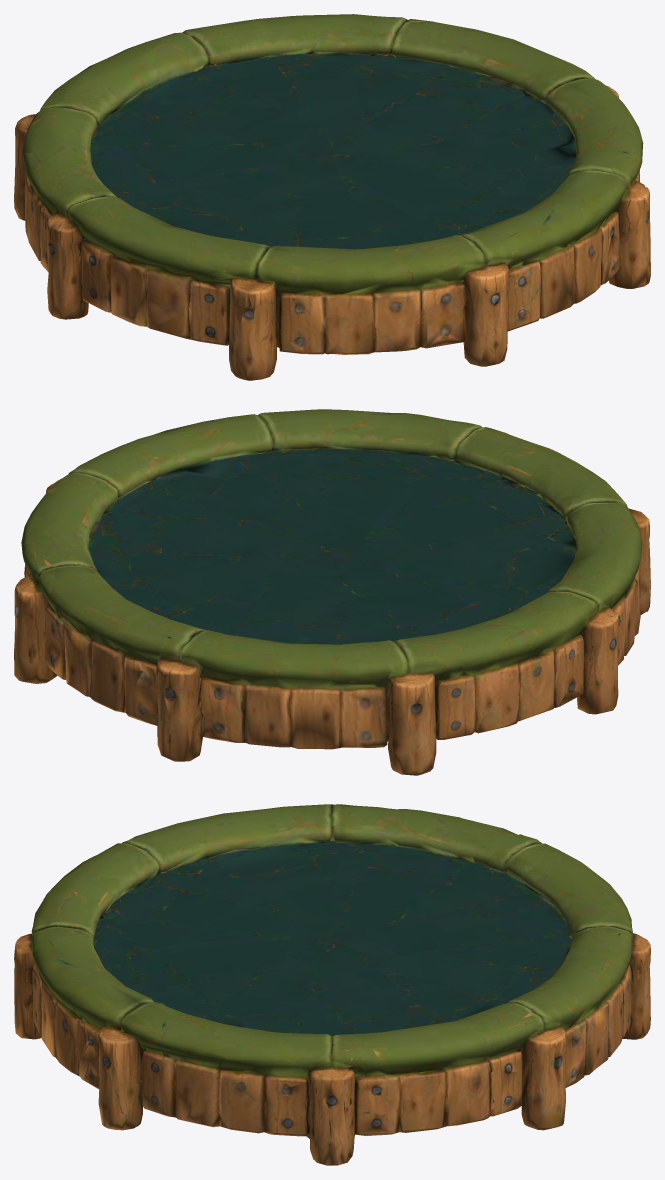
File: zipzip.glb
The picture shows the model from 3 angles, top to bottom: view 1: azimuth 30°, elevation 25°; view 2: azimuth 150°, elevation 25°; view 3: azimuth 270°, elevation 25°; orthographic projection. The views are drawn at different scales.
Size of the model in its own units: 1.9 by 0.3576 by 1.9.
Materials: 1 (1 with a texture image).
